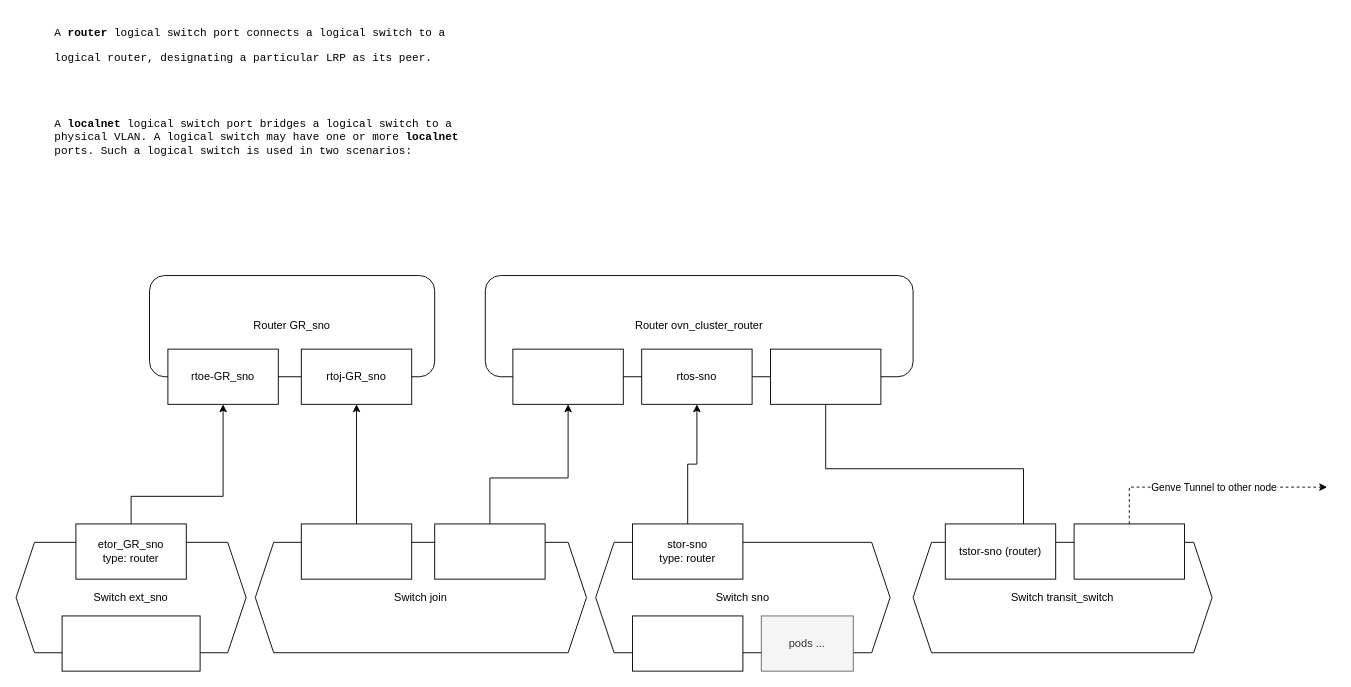
Some shapes in this 1351 by 687 pixel diagram are drawn without their labels. The shapes that lost their labels are listed below. From the top down, each one's centre as x and y in pixels, then its label:
At point 567,376: "rtoj-ovn_cluster_router".
At point 825,376: "rtots-sno".
At point 356,551: "jtor-GR_sno (router)".
At point 489,551: "jtor-ovn_cluster_router (router)".
At point 1128,551: "tstor-wrk01 (remote)".
At point 130,643: "br-ex_sno type: localnet network_name: physnet".
At point 687,643: "k8s-sno".
